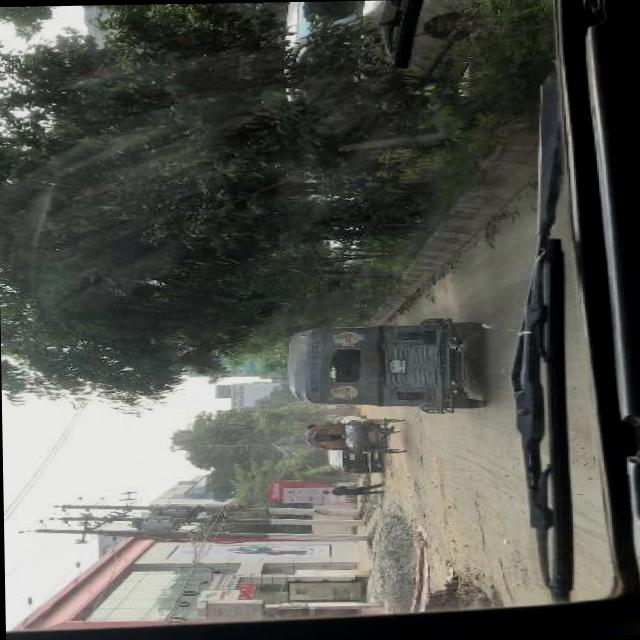car: (324, 445, 381, 474)
motorcycle: (284, 318, 486, 414), (304, 418, 401, 454)
